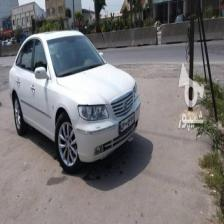plate: (119, 108, 134, 136)
